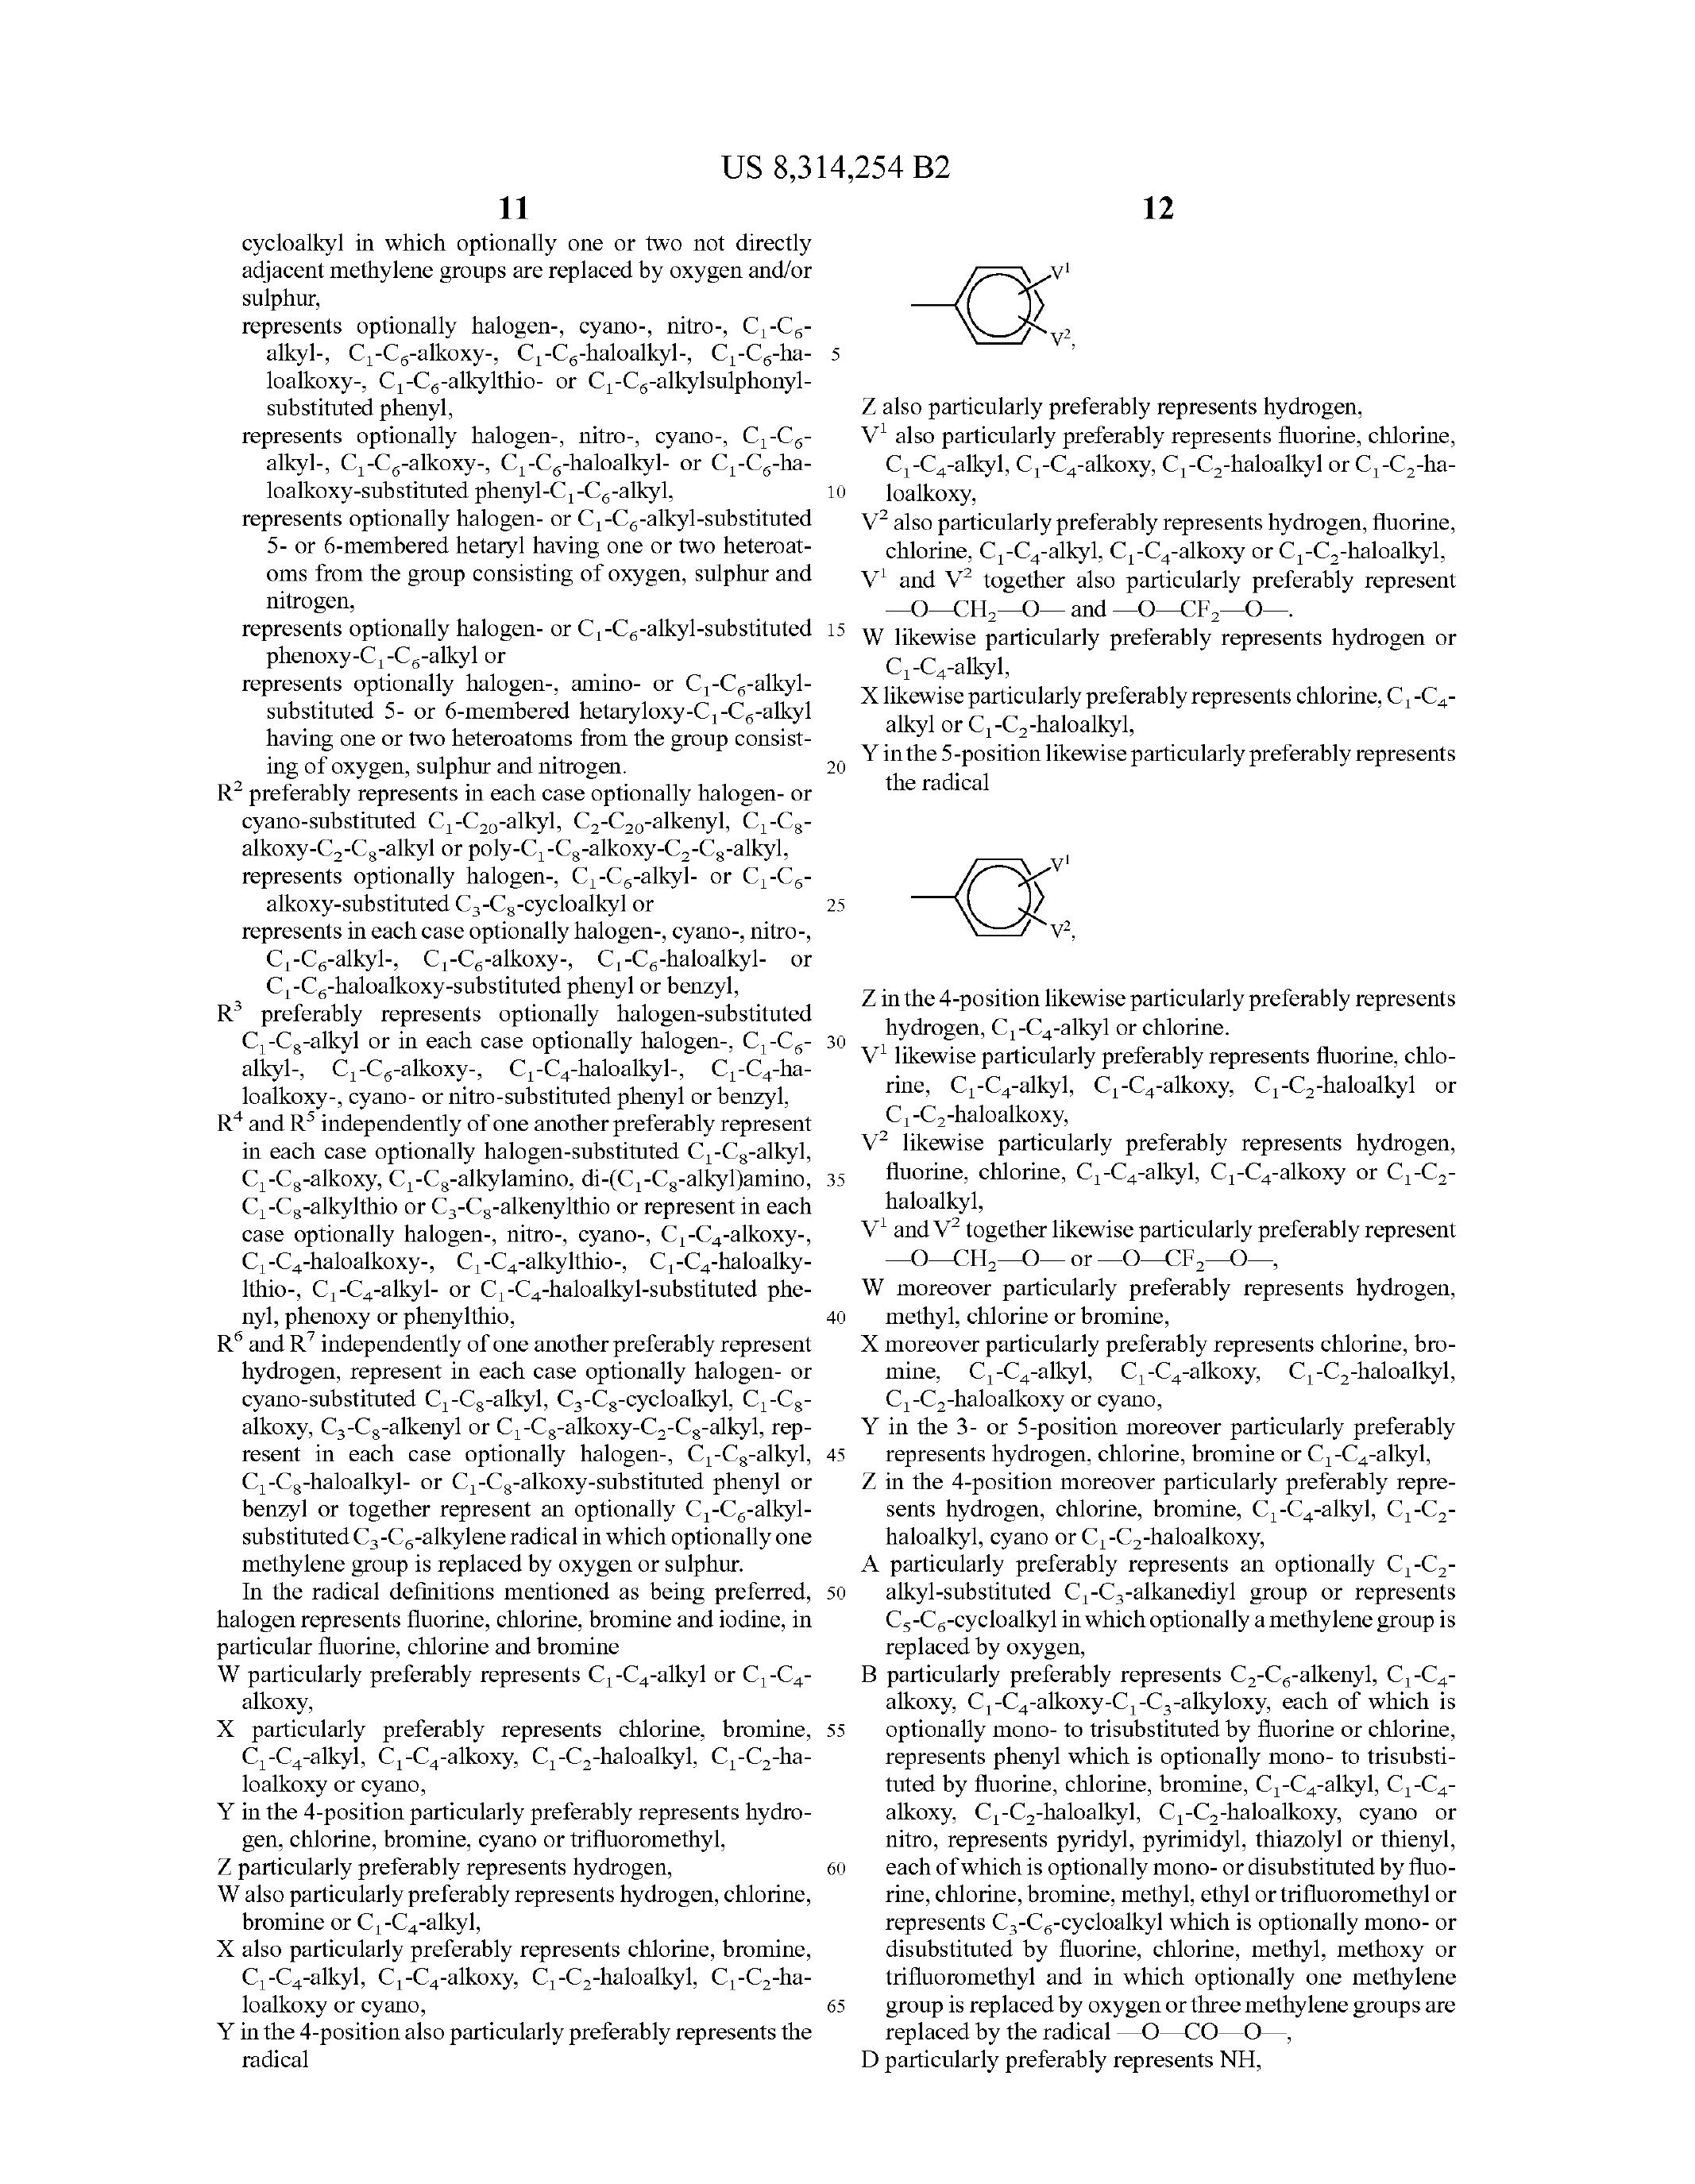substitutes: (849, 378, 1488, 805), (878, 215, 1142, 355)
